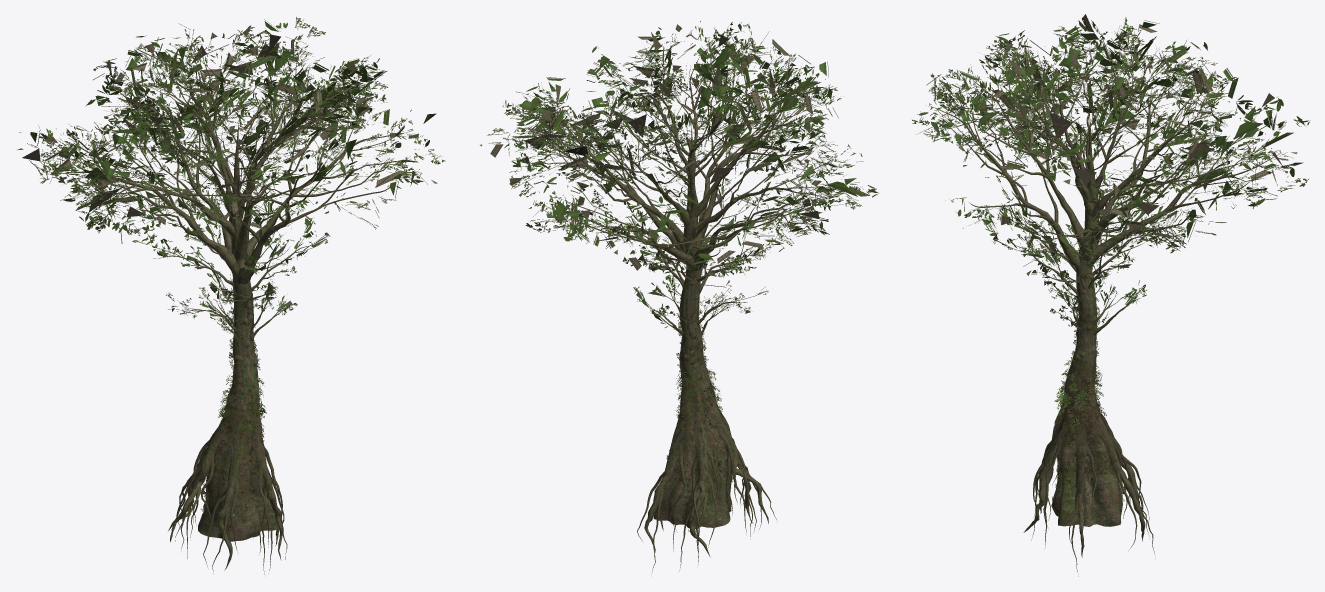
File: Tree - Alien Tree 04 1-DgxBE3jN.glb
3 views of the same model, side by side, from view 1: azimuth 30°, elevation 25°; view 2: azimuth 150°, elevation 25°; view 3: azimuth 270°, elevation 25° (orthographic). The views are drawn at different scales.
Parts seen in each view (by area): view 1: Tree_04_1_L0(Clone), Tree_04_1_plants(Clone); view 2: Tree_04_1_L0(Clone), Tree_04_1_plants(Clone); view 3: Tree_04_1_L0(Clone), Tree_04_1_plants(Clone).
Boxes of the visible parts, box(x1,y1,x2,y2) form: Tree_04_1_L0(Clone): box(17, 17, 445, 574); Tree_04_1_plants(Clone): box(200, 300, 267, 528); Tree_04_1_L0(Clone): box(480, 21, 878, 572); Tree_04_1_plants(Clone): box(654, 297, 733, 510); Tree_04_1_L0(Clone): box(912, 14, 1310, 576); Tree_04_1_plants(Clone): box(1052, 296, 1124, 502).
Bounding box in the file's own units: 15.35 × 21.1 × 14.56.
Materials: 3 (3 with a texture image).
